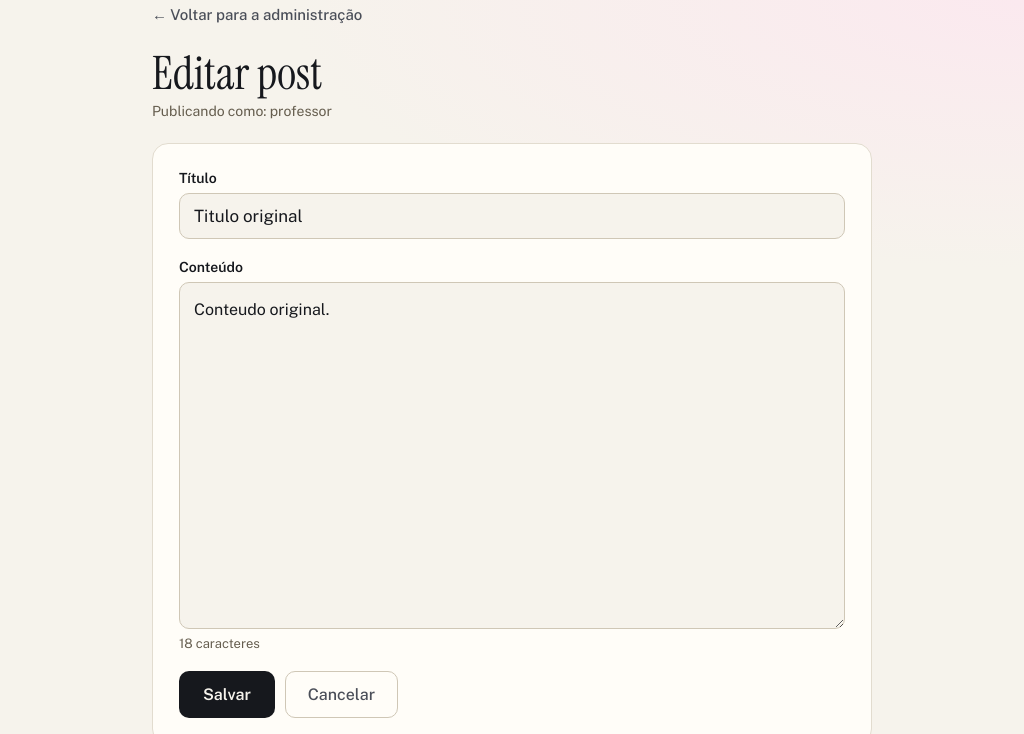
Test case: erro 400 ao salvar mostra mensagem e mantem os dados
Check: the field labelled "Título" is shown, box [179,193,845,239]
Click the button "Salvar" at x=227, y=694, box [179,671,275,718]
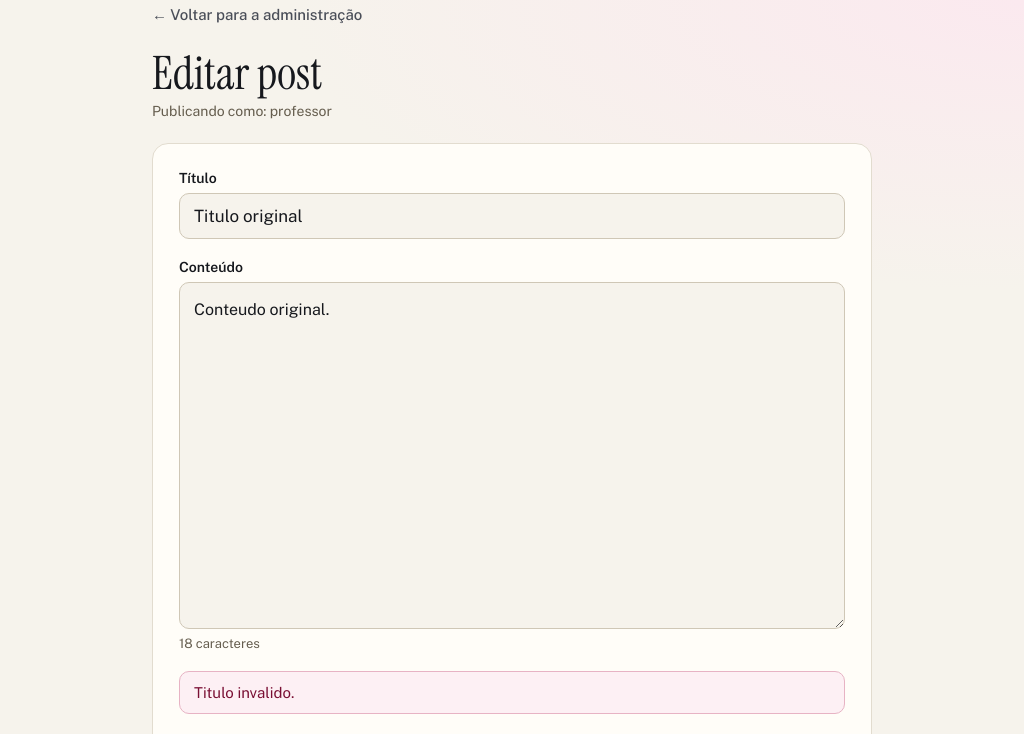
Check: the field labelled "Título" holds "Titulo original", box [179,193,845,239]
Check: the text "Titulo invalido." is shown, box [194,684,294,701]
